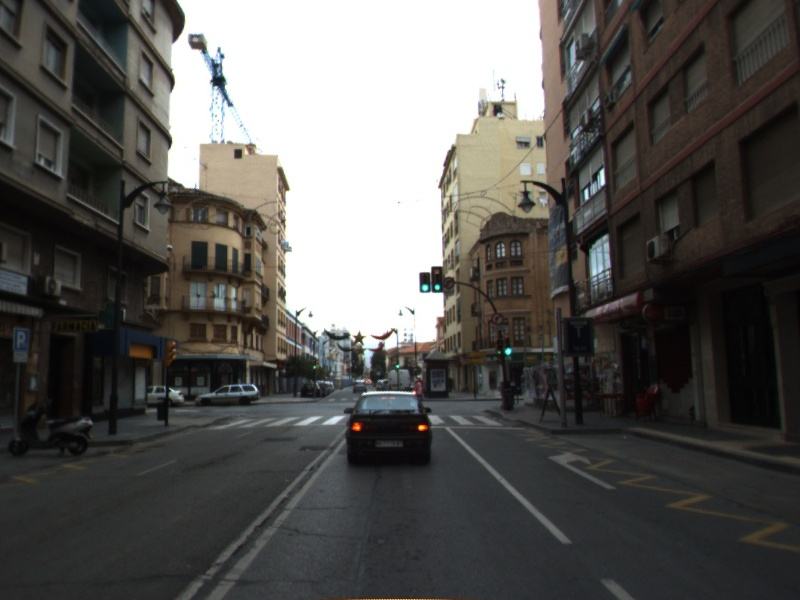RIGHT: (545, 449, 618, 492)
